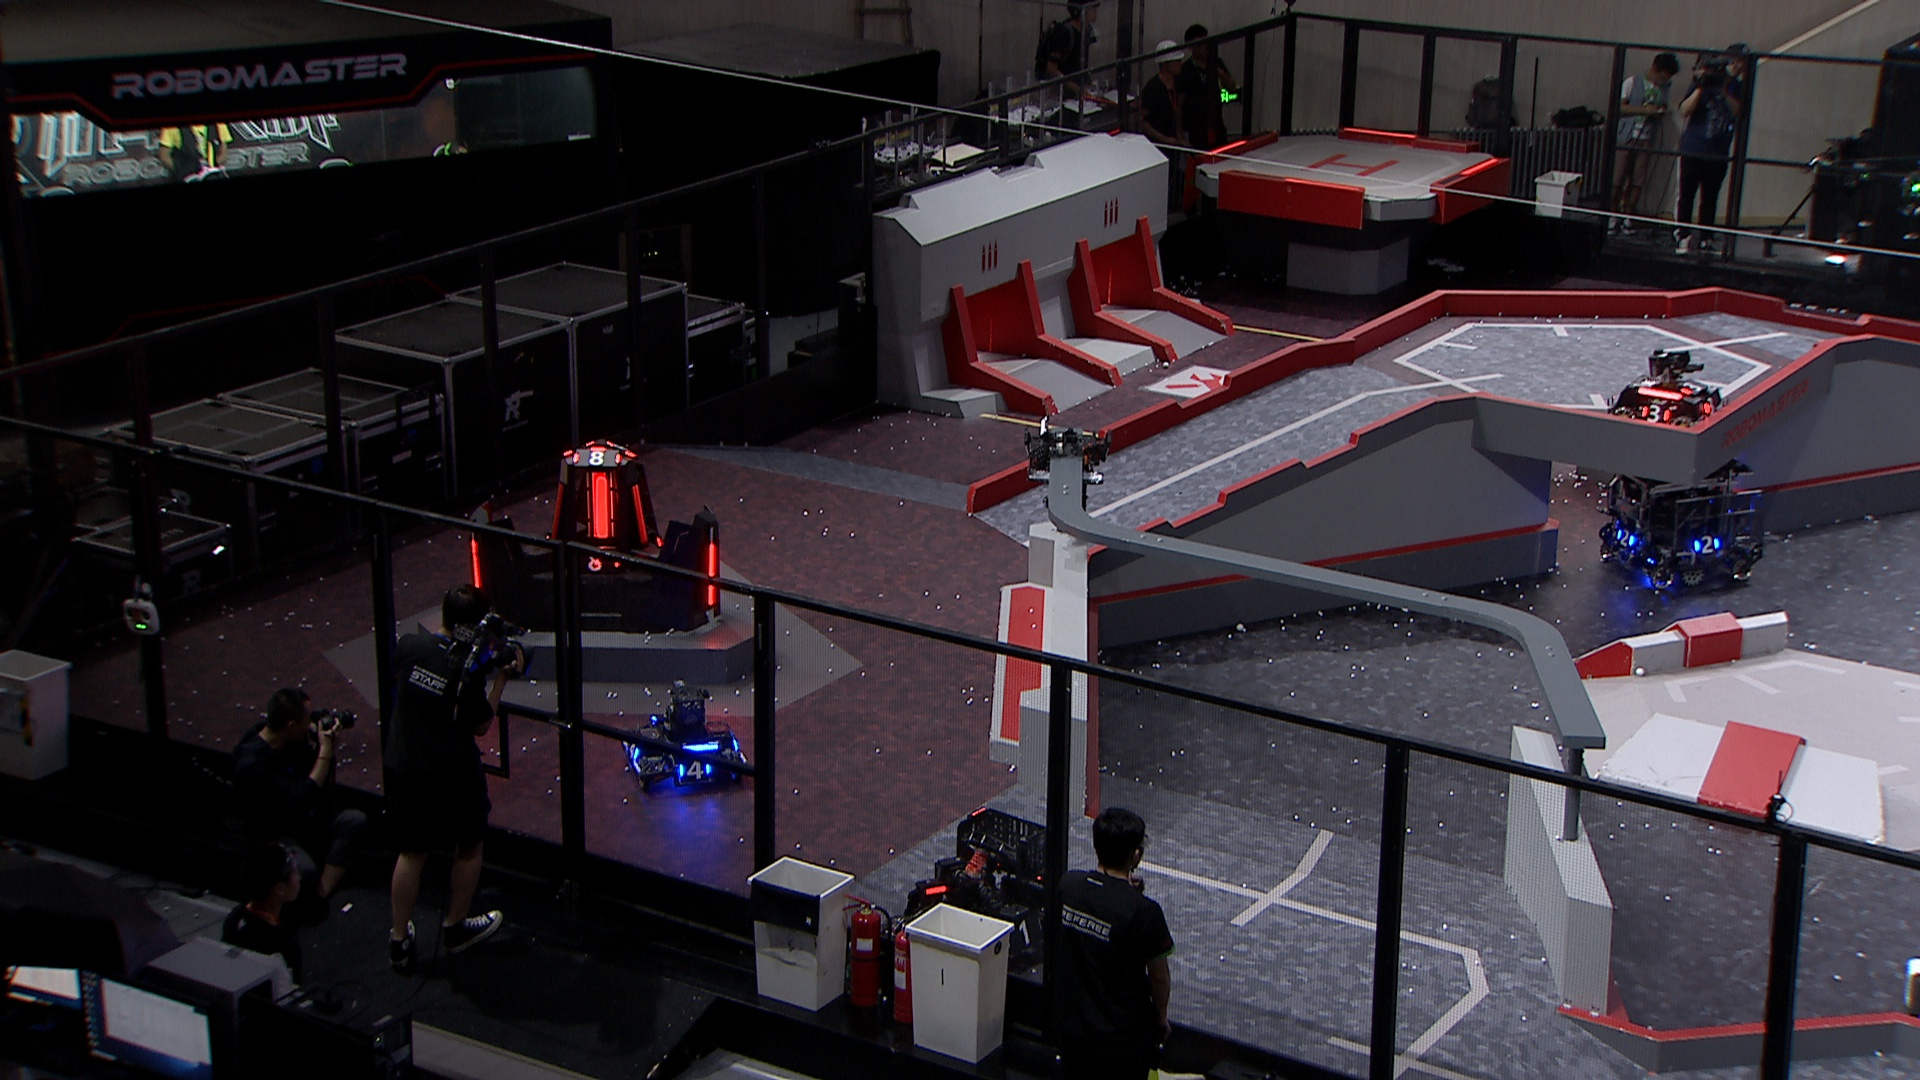armor: (589, 473, 613, 541), (547, 477, 564, 541), (632, 484, 647, 545), (1010, 916, 1048, 942), (468, 533, 484, 591), (704, 541, 717, 607), (580, 549, 621, 568), (571, 450, 618, 465), (1640, 404, 1669, 422), (679, 760, 708, 778), (1692, 535, 1721, 553), (1614, 524, 1634, 547), (1681, 377, 1702, 398), (1698, 394, 1718, 417), (624, 742, 641, 761)
base: (462, 436, 723, 638)
car: (897, 808, 1077, 975), (1594, 452, 1764, 591), (618, 680, 746, 793), (1604, 343, 1731, 446)
watcher: (1021, 414, 1112, 524)
